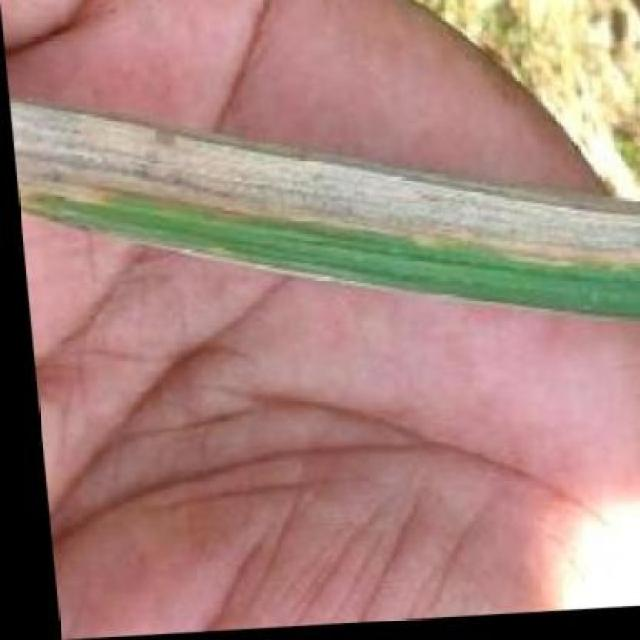Brown_Spot: (35, 103, 640, 288)
